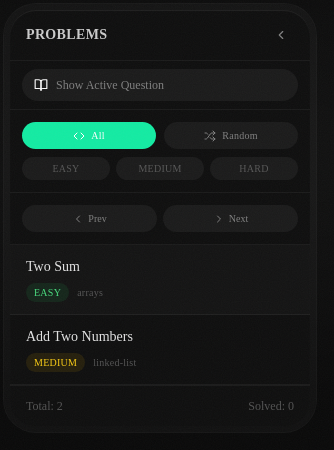
it: Sidebar › collapses sidebar when collapse button is clicked
This screenshot has width=334, height=450.
Click the button named "Collapse sidebar".
click(281, 35)  # box [268,22,294,48]
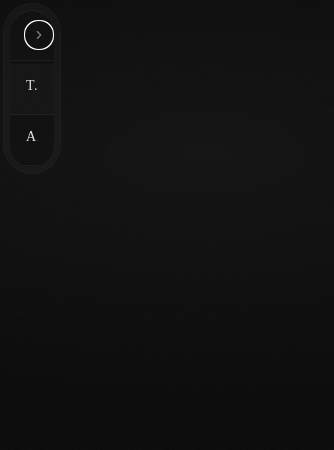
expect the button named "Expand sidebar" is shown: met, box [26,22,52,48]
